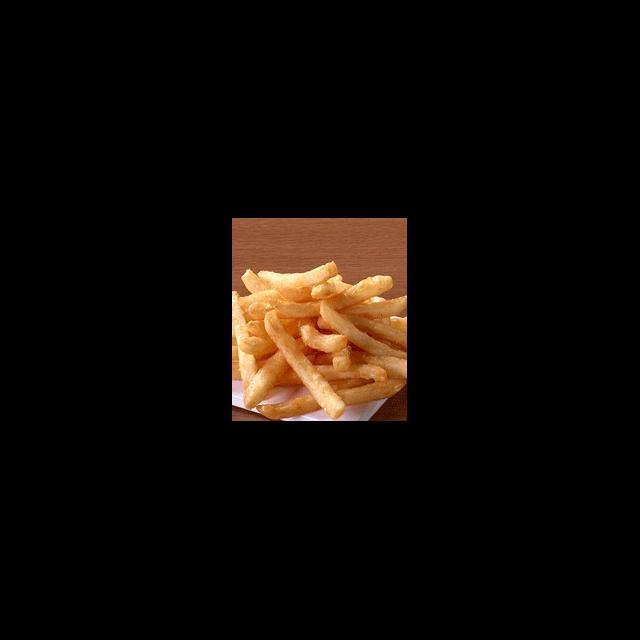food_waste: (232, 271, 406, 404)
